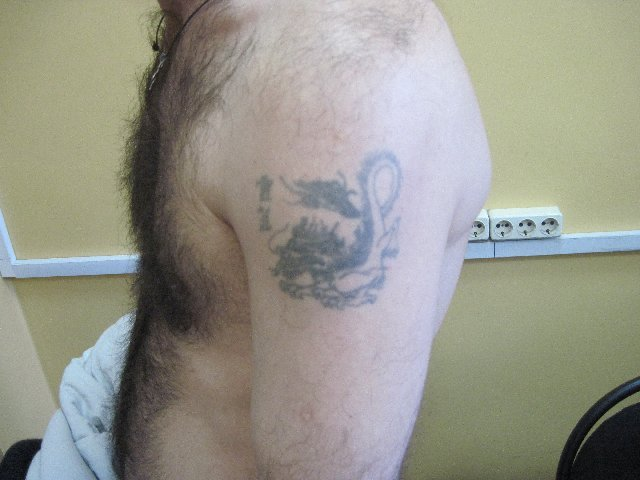tatu6_drakon: (226, 146, 423, 327)
